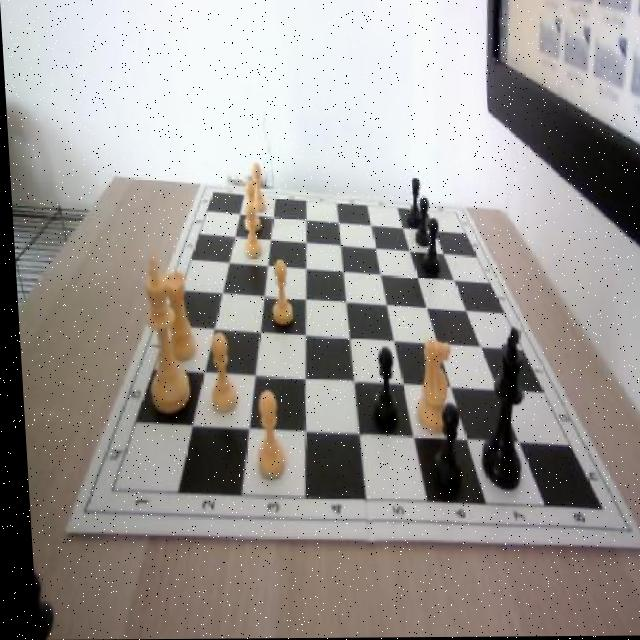black-bishop: (466, 326, 524, 491)
black-knight: (425, 407, 459, 494), (365, 346, 393, 427), (418, 221, 437, 276), (402, 179, 421, 231), (411, 197, 429, 246)
white-bishop: (133, 259, 186, 413)
white-king: (407, 341, 449, 434)
white-knight: (247, 387, 281, 478), (205, 334, 238, 417), (266, 257, 290, 325), (239, 203, 261, 259), (239, 180, 257, 233), (248, 162, 263, 212)
white-queen: (161, 271, 194, 357)
